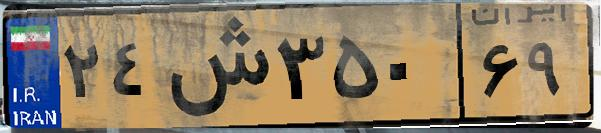0: (385, 28, 445, 110)
2: (57, 26, 110, 100)
3: (270, 28, 330, 110)
4: (110, 28, 158, 98)
5: (330, 28, 385, 110)
6: (475, 38, 525, 113)
9: (525, 38, 570, 115)
ش: (158, 12, 270, 120)
